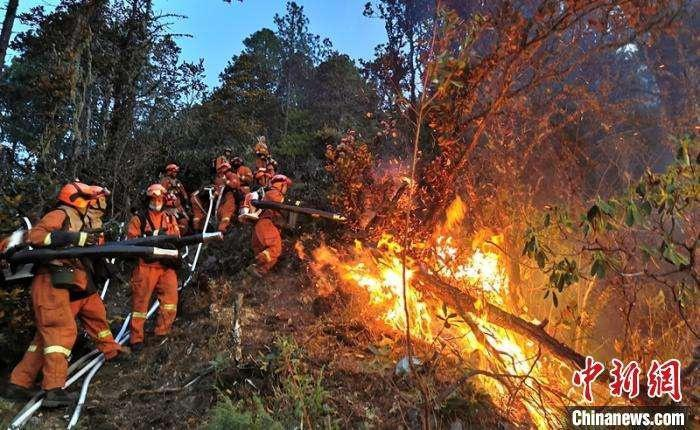fire: (307, 193, 568, 424)
